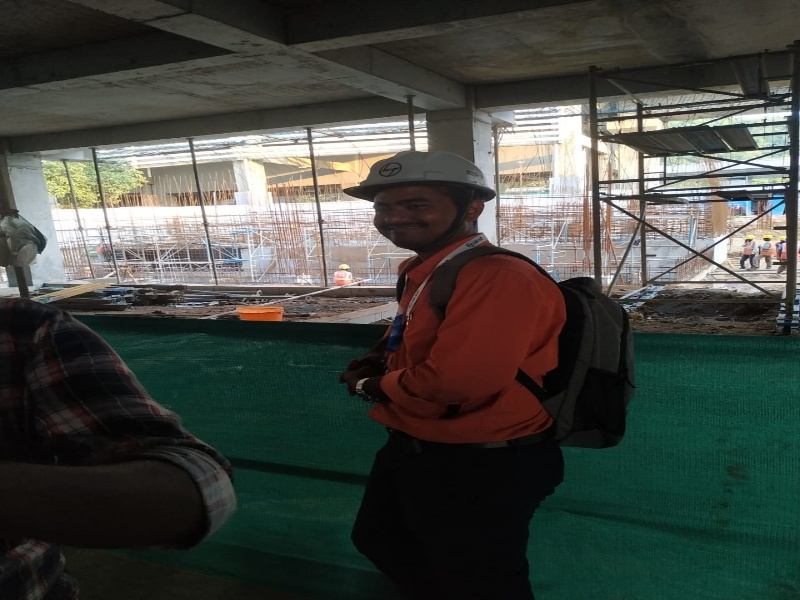Face: (340, 142, 495, 202)
